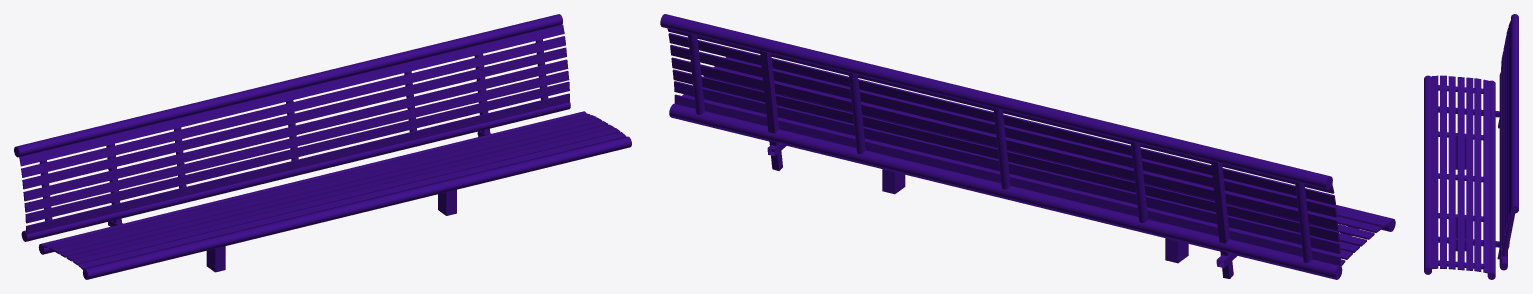
Rendered from Bench.obj.
3 views of the same model, side by side, from view 1: azimuth 30°, elevation 25°; view 2: azimuth 150°, elevation 25°; view 3: azimuth 270°, elevation 25° (orthographic). The views are drawn at different scales.
Parts seen in each view (by area): view 1: Bench; view 2: Bench; view 3: Bench.
Boxes of the visible parts, x1,y1,x2,y2 form: Bench: [14, 14, 631, 279]; Bench: [660, 14, 1395, 279]; Bench: [1424, 14, 1518, 279].
Bounding box in the file's own units: 184 × 42.32 × 37.73.
